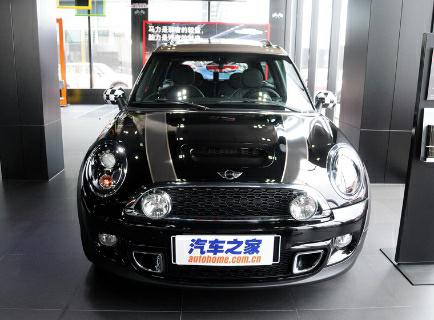MINI CLUBMAN: (92, 51, 353, 279)
